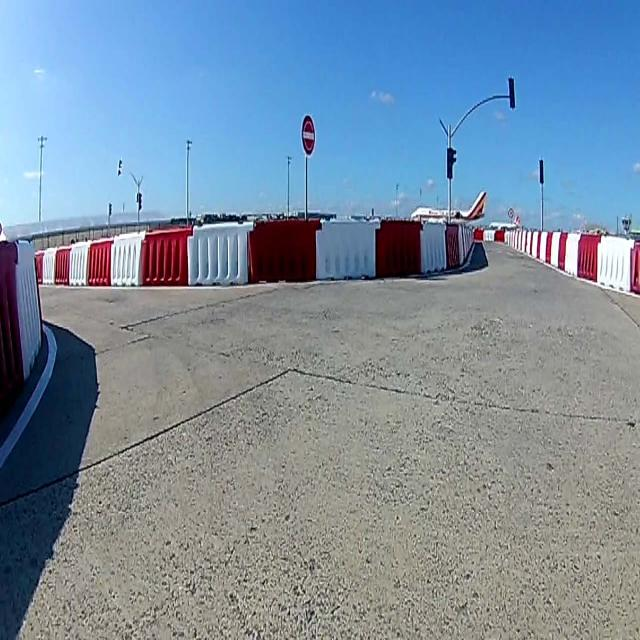girisyok: (301, 116, 316, 154)
